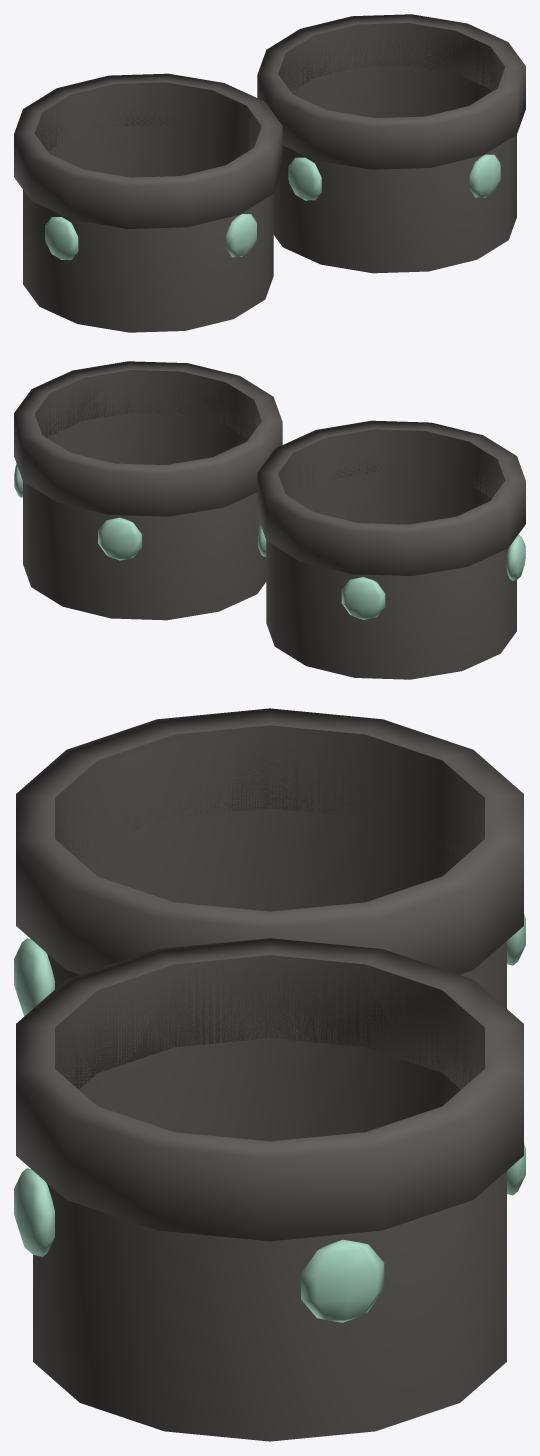
File: sheer_socks.glb
3 renders of one model, top to bottom at view 1: azimuth 30°, elevation 25°; view 2: azimuth 150°, elevation 25°; view 3: azimuth 270°, elevation 25°, orthographic. The views are drawn at different scales.
Parts seen in each view (by area): view 1: sheer_socks_LegL, sheer_socks_LegR; view 2: sheer_socks_LegL, sheer_socks_LegR; view 3: sheer_socks_LegR, sheer_socks_LegL.
Boxes of the visible parts, x1,y1,x2,y2 form: sheer_socks_LegL: [14, 73, 282, 332]; sheer_socks_LegR: [257, 14, 525, 273]; sheer_socks_LegL: [257, 420, 525, 679]; sheer_socks_LegR: [14, 361, 282, 620]; sheer_socks_LegR: [14, 938, 525, 1441]; sheer_socks_LegL: [14, 708, 525, 1016].
Size of the model in its own units: 0.372 by 0.112 by 0.1789.
